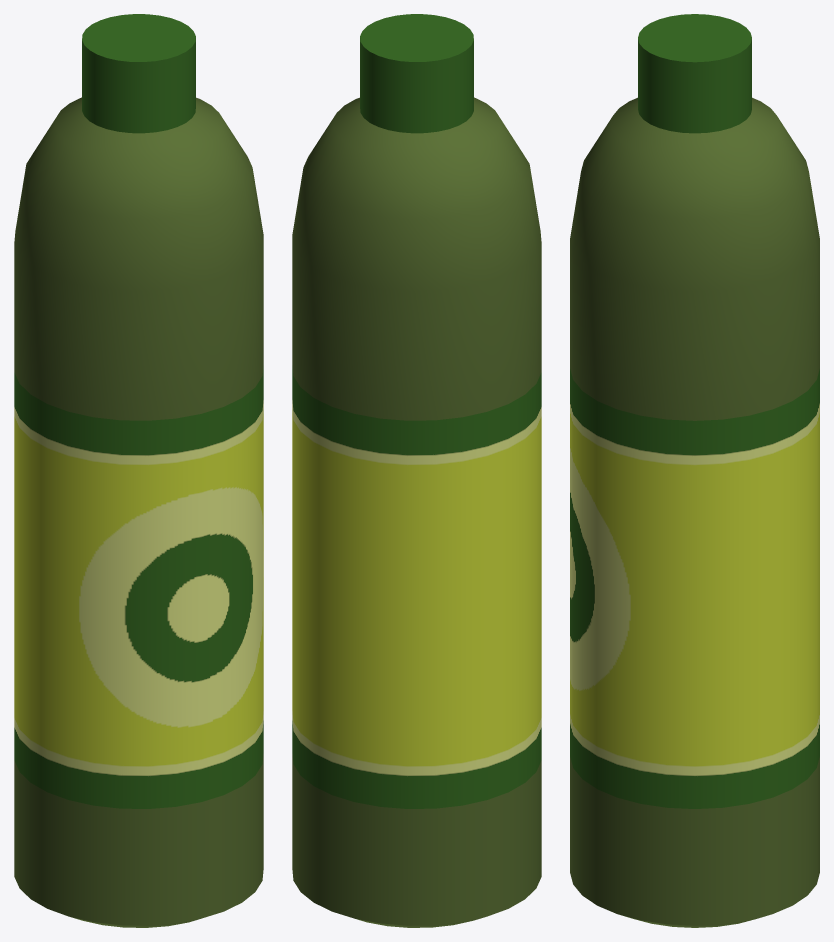
The model's file is Olive_Oil.fbx.
The picture shows the model from 3 angles, left to right: view 1: azimuth 30°, elevation 25°; view 2: azimuth 150°, elevation 25°; view 3: azimuth 270°, elevation 25°; orthographic projection.
Visible parts, largest first — view 1: Olive_Oil; view 2: Olive_Oil; view 3: Olive_Oil.
Part boxes in pixels (<box>): Olive_Oil: <box>14,14,263,927</box>; Olive_Oil: <box>292,14,541,927</box>; Olive_Oil: <box>570,14,819,927</box>.
Size of the model in its own units: 0.07 by 0.262 by 0.07.
3 materials, 1 textured.
